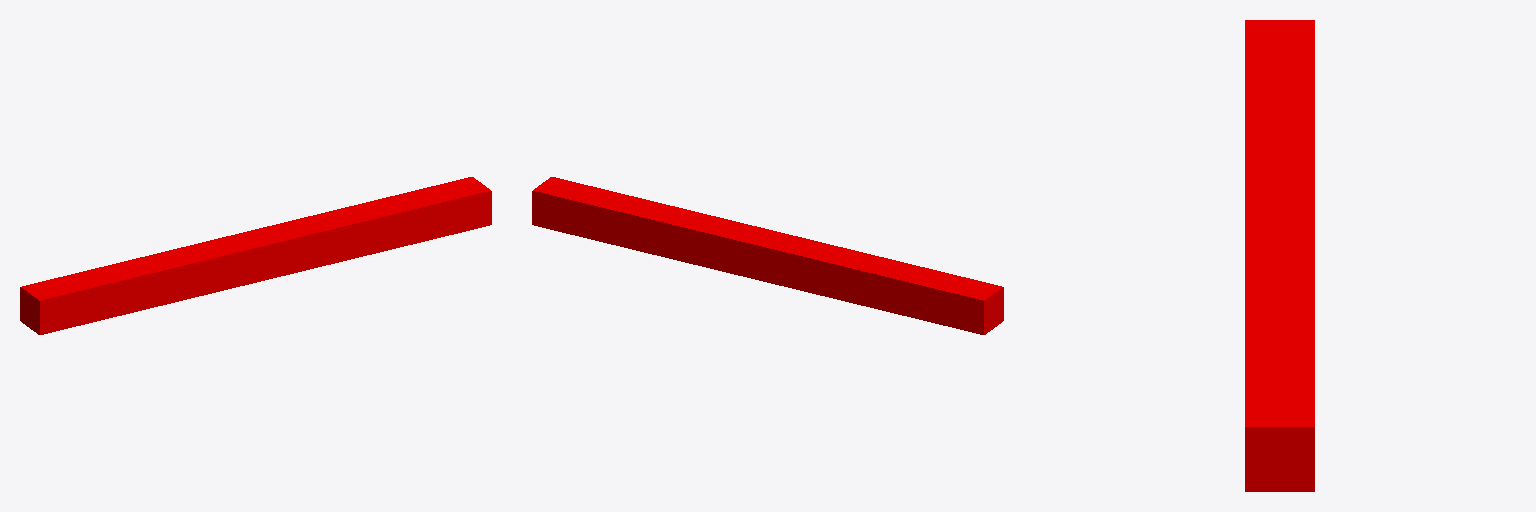
The robot description file, URDF, robot "wallb2":
<?xml version="1.0"?>
<robot name="wallb2">
	<link name="base">
	<inertial>
        	 <origin xyz="0 0 0" rpy="0 0 0"/>
        	 <mass value="2"/>
        	 <inertia ixx="0.000683333"  ixy="0"  ixz="0" iyy="0.000683333" iyz="0" izz="0.000683333" />
       </inertial>
		<visual>
			<origin xyz="0 0 0" rpy="0 0 0" />
			<geometry>
				<box size="0.109 0.008 0.008" />
			</geometry>
			<material>
				<color rgba="1 0 0 1" />
			</material>
		</visual>
	<collision>
            <origin xyz="0 0 0" rpy="0 0 0" />
	    <material>
				<color rgba="1 0 0 1" />
			</material>
            <geometry>
				<box size="0.109 0.008 0.008" />
            </geometry>
        </collision>
	</link>
</robot>

--- What the picture shows (computed from the rendered views, not written in the file) ---
Views: 3 orthographic renders of the robot side by side, from view 1: azimuth 30°, elevation 25°; view 2: azimuth 150°, elevation 25°; view 3: azimuth 270°, elevation 25°.
Model wallb2 with 1 links and 0 joints (none), rooted at base, posed every joint at zero.
Links seen in each view (by area): view 1: base; view 2: base; view 3: base.
Boxes of the visible links, x1=… form: base: x1=20, y1=177, x2=491, y2=334; base: x1=532, y1=177, x2=1003, y2=334; base: x1=1245, y1=20, x2=1314, y2=491.
Bounding box of the posed robot: 0.109 × 0.008 × 0.008 m (x, y, z).
Geometry: primitives only (box / cylinder / sphere), no mesh files.
